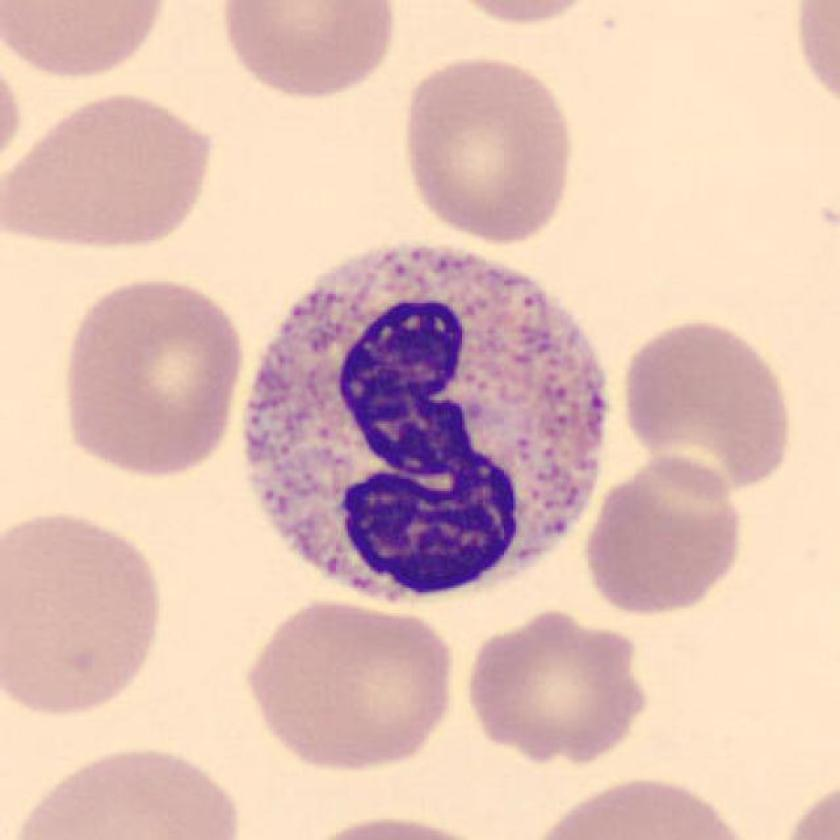neutrophil: (245, 245, 604, 605)
